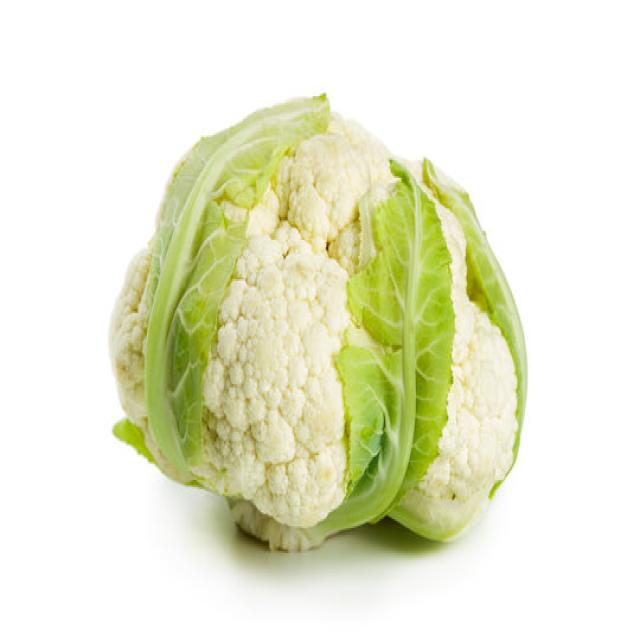Cauliflower: (112, 106, 532, 568)
